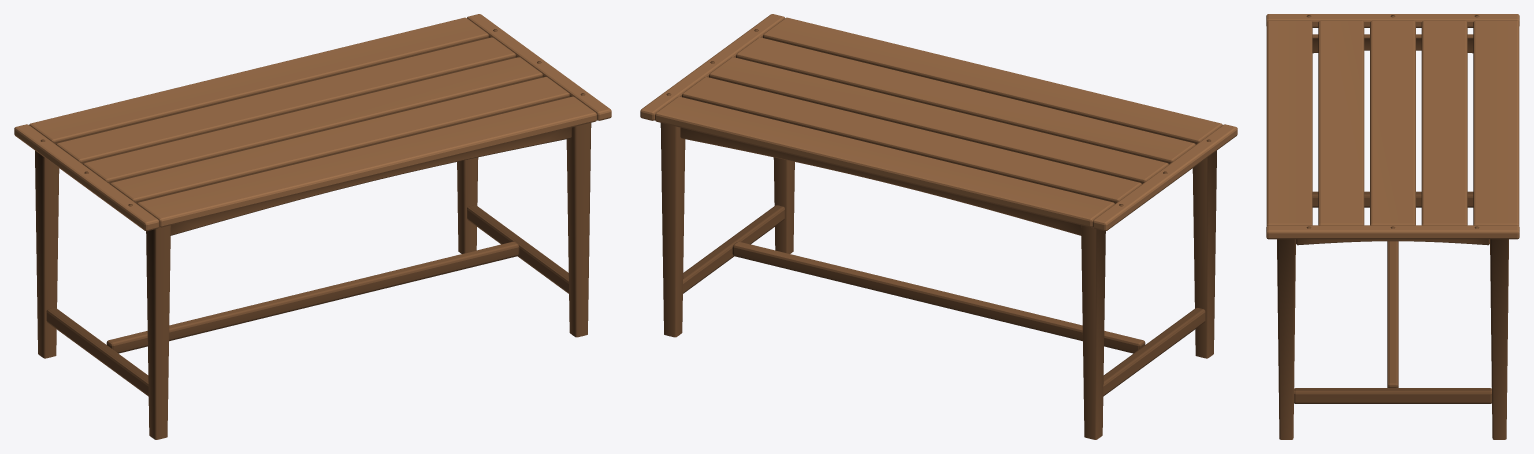
File: patioTable4.glb
The picture shows the model from 3 angles, left to right: view 1: azimuth 30°, elevation 25°; view 2: azimuth 150°, elevation 25°; view 3: azimuth 270°, elevation 25°; orthographic projection. The views are drawn at different scales.
Parts seen in each view (by area): view 1: patioTable4; view 2: patioTable4; view 3: patioTable4.
Part boxes in pixels (bbox=[...]): patioTable4: bbox=[14, 14, 611, 439]; patioTable4: bbox=[640, 14, 1237, 439]; patioTable4: bbox=[1266, 14, 1519, 439].
Bounding box in the file's own units: 1.6 × 0.742 × 0.785.
